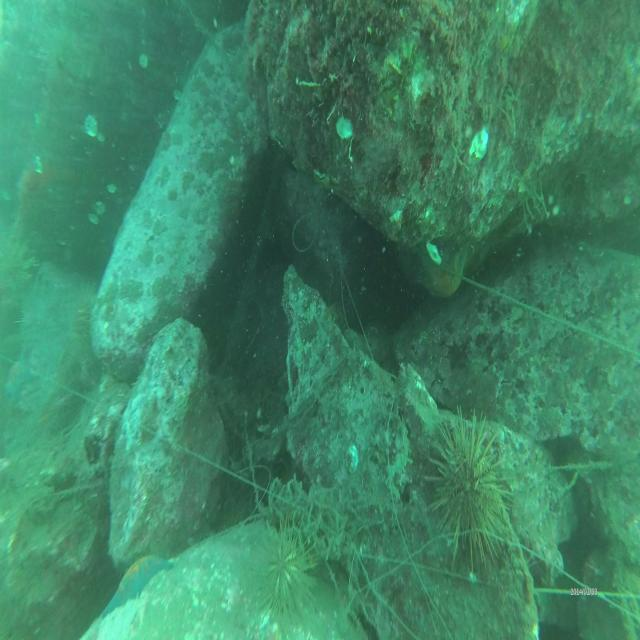echinus: (426, 402, 516, 572), (256, 508, 316, 624), (68, 296, 100, 356)
starfish: (98, 554, 174, 622)
